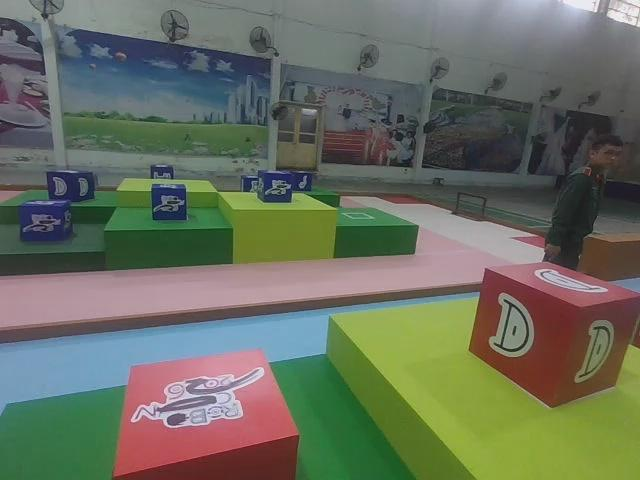R1: (111, 345, 303, 480)
R2 Real: (467, 259, 640, 411)
